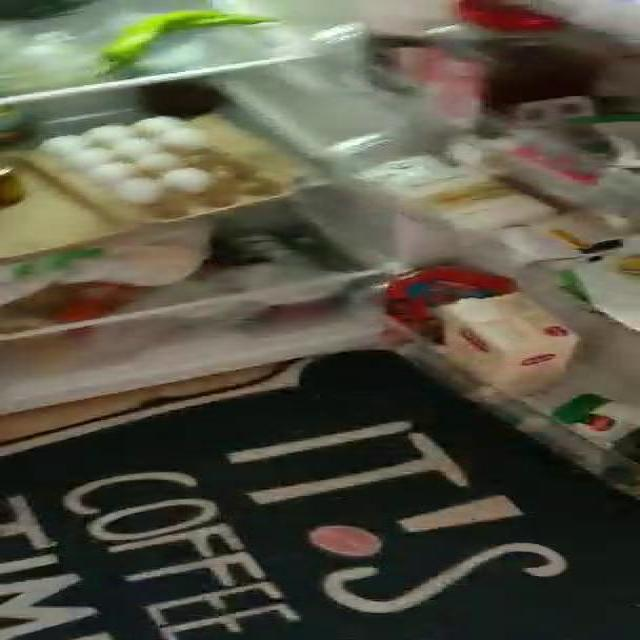eggs: (65, 118, 230, 196)
green chilies: (101, 12, 250, 66)
milk: (446, 292, 576, 387)
